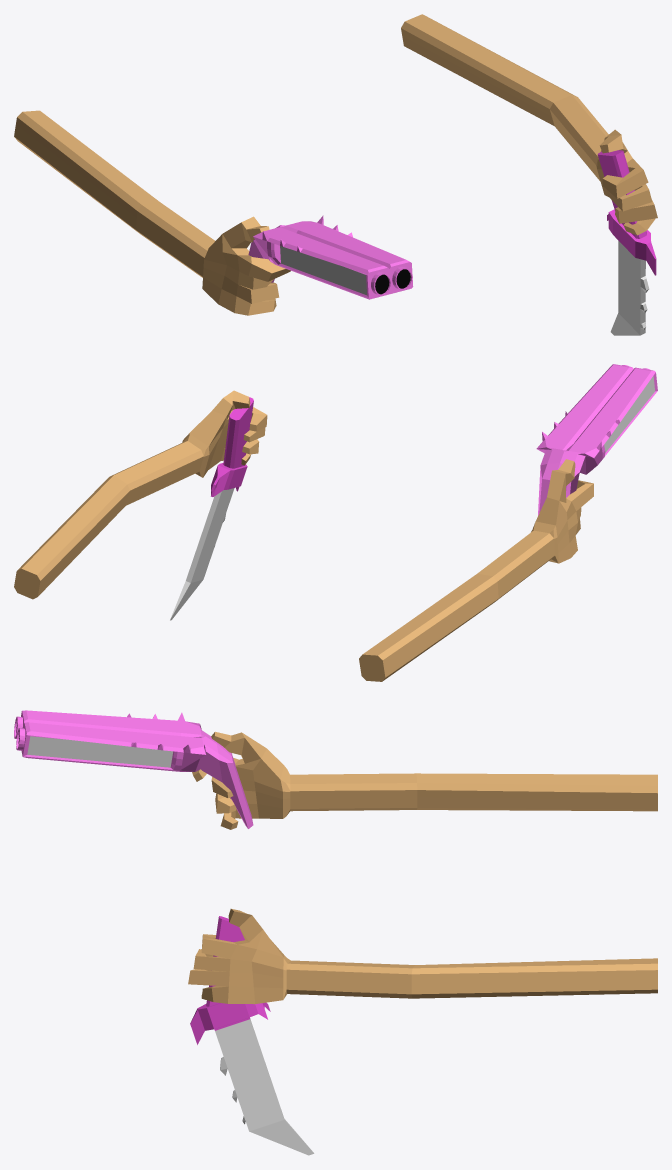
File: Hands.fbx
3 views of the same model, one above another, from view 1: azimuth 30°, elevation 25°; view 2: azimuth 150°, elevation 25°; view 3: azimuth 270°, elevation 25° (orthographic). The views are drawn at different scales.
Parts seen in each view (by area): view 1: Cube.003, Cube.004, Cube, Cube.002, Cube.001, Cube.006; view 2: Cube.003, Cube.004, Cube, Cube.001, Cube.002, Cube.006; view 3: Cube.004, Cube.003, Cube, Cube.002, Cube.006, Cube.001.
Boxes of the visible parts, x1,y1,x2,y2 form: Cube.003: (14, 110, 290, 315); Cube.004: (401, 14, 657, 235); Cube: (248, 215, 413, 299); Cube.002: (610, 241, 649, 335); Cube.001: (597, 150, 656, 275); Cube.006: (280, 246, 366, 295); Cube.003: (359, 459, 593, 681); Cube.004: (14, 390, 267, 599); Cube: (536, 364, 657, 515); Cube.001: (211, 397, 253, 496); Cube.002: (170, 488, 234, 620); Cube.006: (604, 376, 655, 452); Cube.004: (188, 908, 657, 1004); Cube.003: (192, 731, 657, 829); Cube: (14, 710, 253, 828); Cube.002: (215, 1019, 314, 1155); Cube.006: (27, 736, 173, 767); Cube.001: (190, 916, 270, 1044).
Size of the model in its own units: 2785 by 1605 by 3605.
